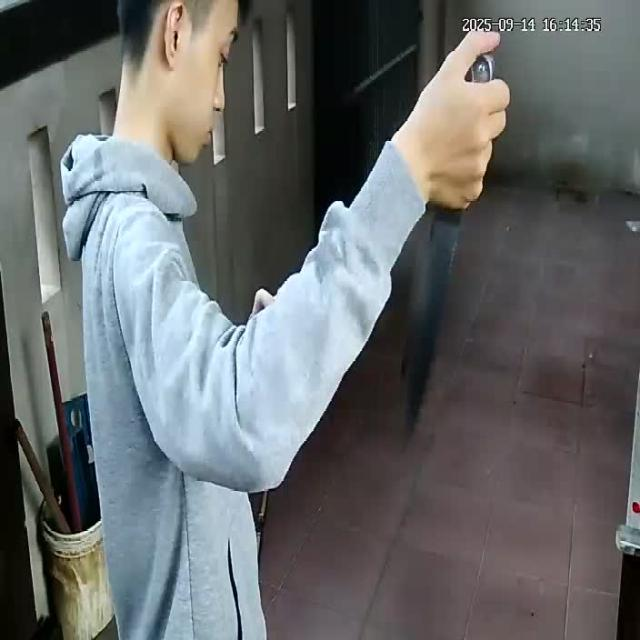senjata_tajam: (399, 208, 464, 458)
